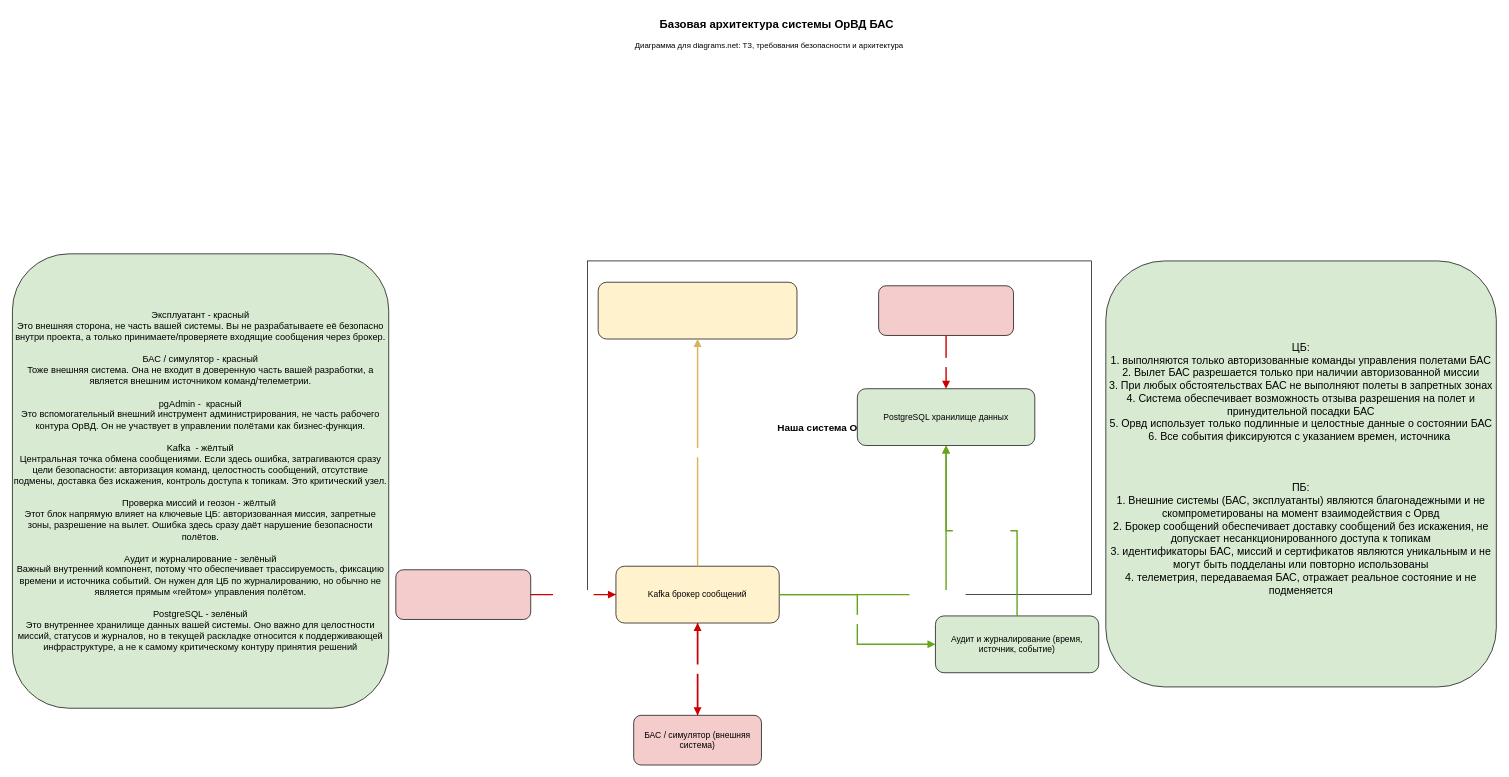
Some shapes in this 1509 by 777 pixel diagram are drawn without their labels. Each missing label, with the centre of its shape:
"pgAdmin (администрирование)" belongs at point (946, 310).
"Проверка миссий и геозон" belongs at point (697, 310).
"Эксплуатант (внешняя система)" belongs at point (463, 594).
